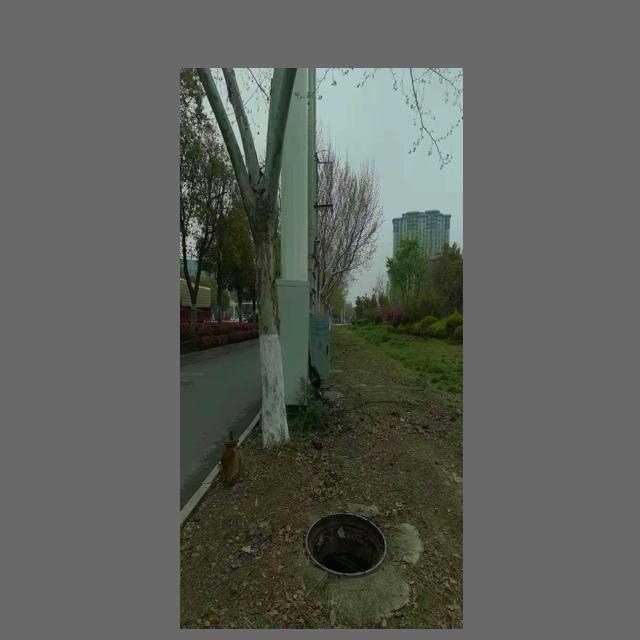lose: (306, 510, 388, 576)
